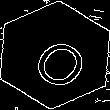O_NE: (19, 22, 91, 88)
